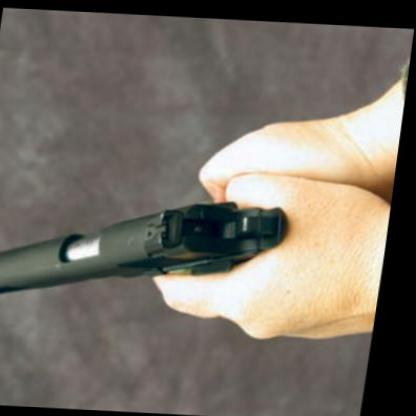pistol: (0, 190, 298, 319)
